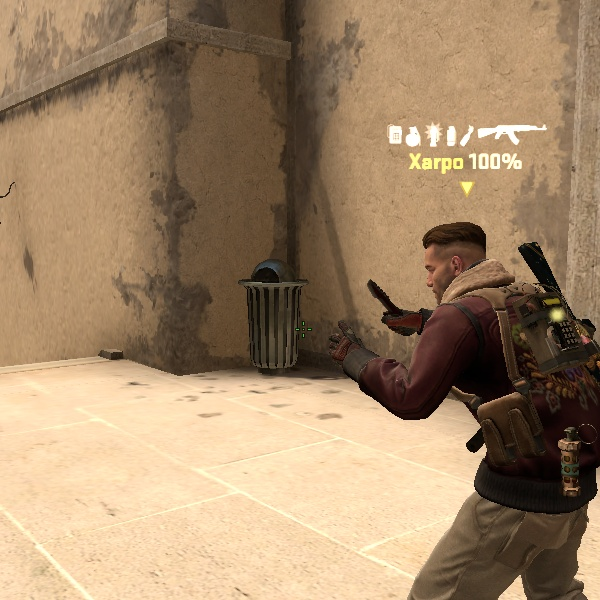t_body: (353, 219, 593, 600)
t_head: (400, 212, 505, 316)
